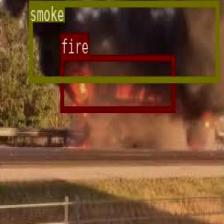fire: (60, 53, 174, 111)
smoke: (29, 0, 218, 81)
